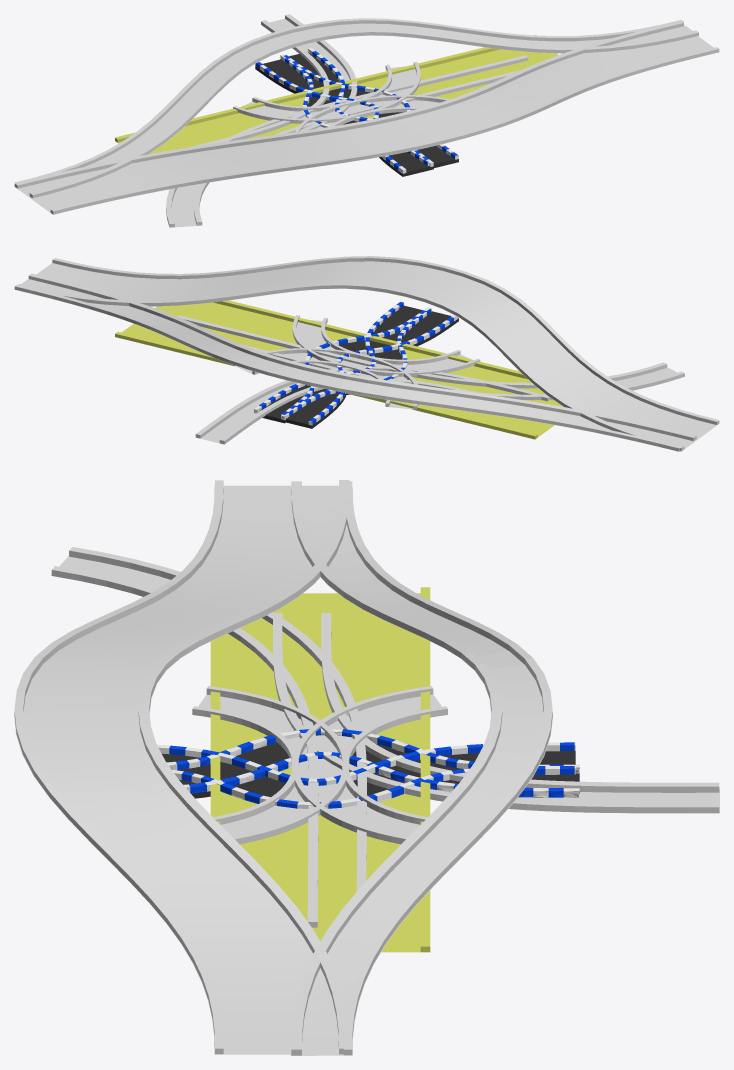
File: straight_track_.glb
3 views of the same model, one above another, from view 1: azimuth 30°, elevation 25°; view 2: azimuth 150°, elevation 25°; view 3: azimuth 270°, elevation 25° (orthographic). The views are drawn at different scales.
Visible parts, largest first — view 1: Plane.004, Plane.003, Plane.002, Plane.006, path 1, Plane.001, Plane, path 2, Plane.005; view 2: Plane.004, Plane.003, Plane.002, path 1, Plane.006, Plane, path 2, Plane.005, Plane.001; view 3: Plane.004, Plane.003, Plane.002, Plane, Plane.006, Plane.005, path 1, Plane.001, path 2.
Part boxes in pixels (x1,y1,x2,y2): Plane.004: (14, 22, 719, 214); Plane.003: (15, 18, 699, 198); Plane.002: (115, 35, 558, 153); Plane.006: (166, 55, 528, 227); path 1: (255, 55, 433, 176); Plane.001: (233, 61, 420, 123); Plane: (188, 14, 357, 147); path 2: (280, 47, 458, 167); Plane.005: (295, 95, 449, 131); Plane.004: (18, 256, 719, 451); Plane.003: (14, 273, 696, 451); Plane.002: (115, 300, 563, 439); path 1: (281, 307, 458, 428); Plane.006: (177, 315, 684, 400); Plane: (195, 366, 549, 444); path 2: (254, 301, 431, 423); Plane.005: (292, 315, 480, 376); Plane.001: (232, 348, 418, 409); Plane.004: (14, 480, 349, 1054); Plane.003: (290, 481, 552, 1055); Plane.002: (210, 587, 430, 952); Plane: (273, 613, 719, 813); Plane.006: (51, 547, 366, 927); Plane.005: (192, 686, 348, 844); path 1: (157, 742, 575, 808); Plane.001: (292, 686, 447, 844); path 2: (166, 728, 579, 798).
Bounding box in the file's own units: 83.28 × 4.71 × 43.56.
